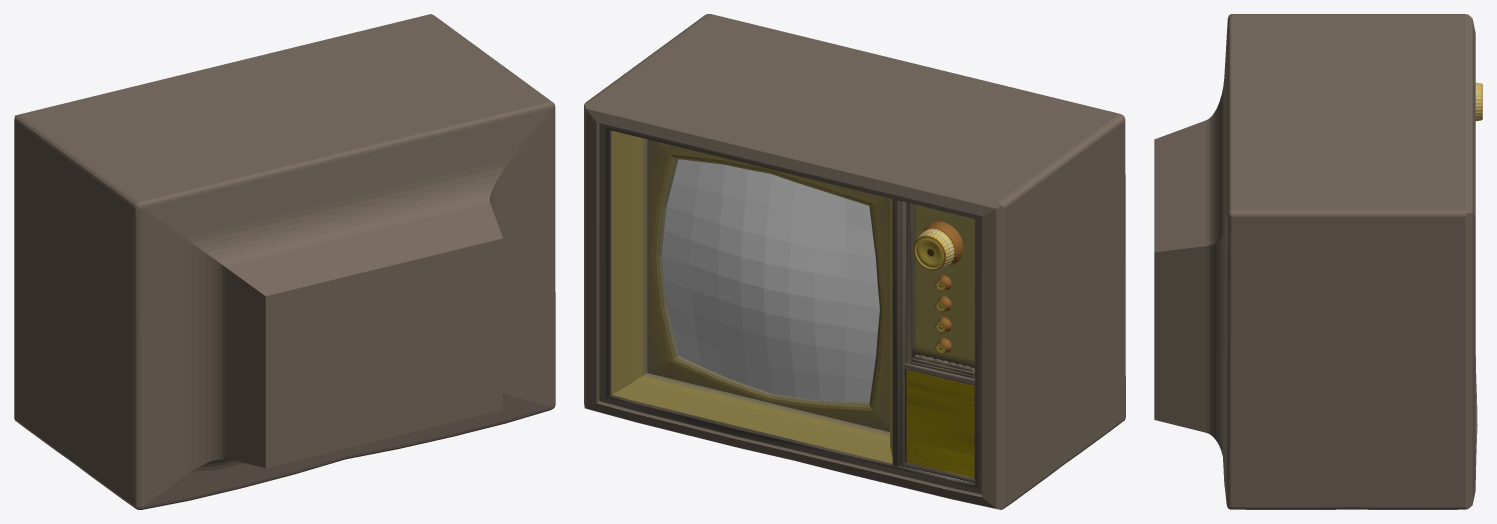
The picture shows the model from 3 angles, left to right: view 1: azimuth 30°, elevation 25°; view 2: azimuth 150°, elevation 25°; view 3: azimuth 270°, elevation 25°; orthographic projection. The views are drawn at different scales.
Visible parts, largest first — view 1: tv; view 2: tv, tv screen; view 3: tv.
Boxes of the visible parts, <box> form: tv: <box>14,14,555,509</box>; tv: <box>584,14,1125,509</box>; tv screen: <box>662,159,879,402</box>; tv: <box>1154,14,1482,509</box>.
Bounding box in the file's own units: 2 × 1.41 × 1.39.
